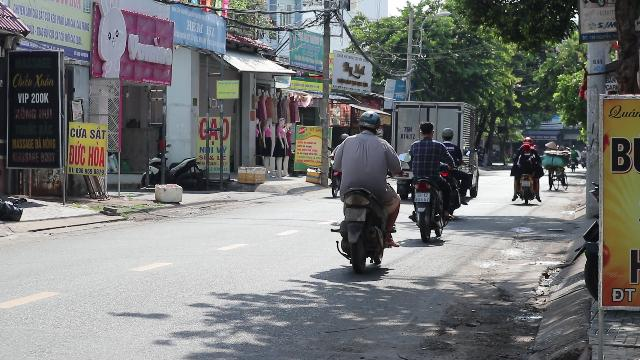helmet: (356, 110, 380, 134), (418, 122, 434, 138)
licenseplate: (346, 207, 366, 221), (414, 193, 430, 202)
motorcyclist: (326, 109, 402, 271), (406, 120, 454, 243)
